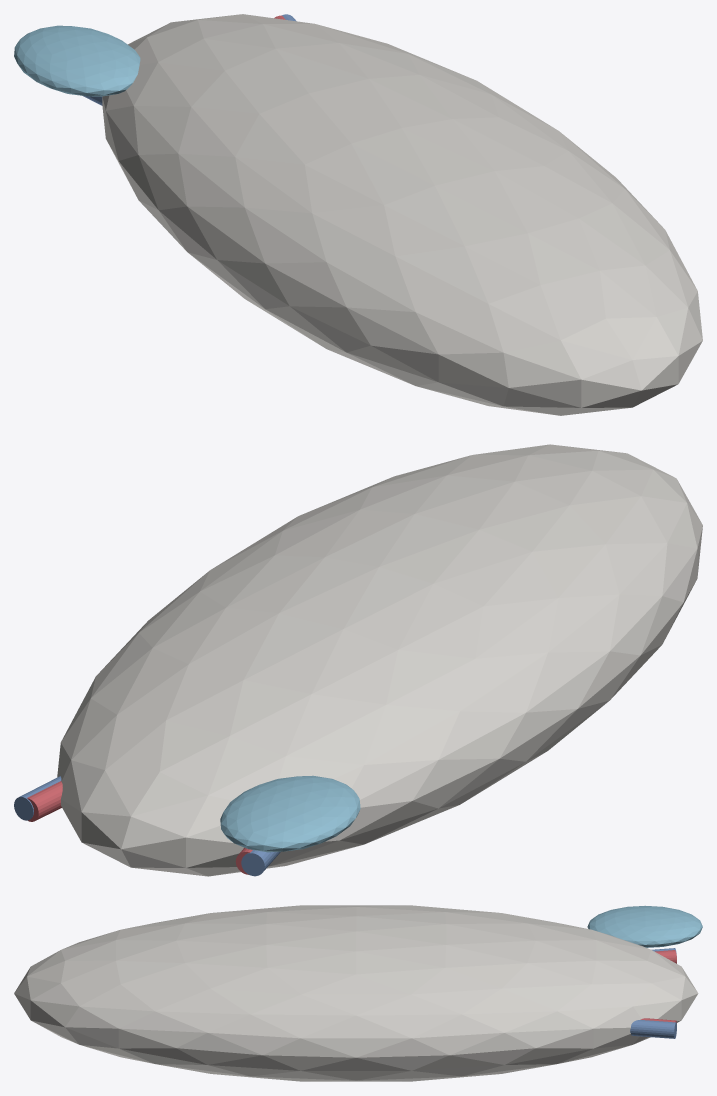
File: cardiovascular_educational.glb
3 renders of one model, top to bottom at view 1: azimuth 30°, elevation 25°; view 2: azimuth 150°, elevation 25°; view 3: azimuth 270°, elevation 25°, orthographic. The views are drawn at different scales.
Parts seen in each view (by area): view 1: Siluet Tubuh, Edema Tungkai; view 2: Siluet Tubuh, Edema Tungkai, Arteri Tungkai Kiri_2, Vena Tungkai Kanan_1; view 3: Siluet Tubuh, Edema Tungkai, Vena Tungkai Kiri_1.
Boxes of the visible parts, x1,y1,x2,y2 form: Siluet Tubuh: [102, 14, 702, 415]; Edema Tungkai: [14, 25, 140, 96]; Siluet Tubuh: [57, 444, 702, 876]; Edema Tungkai: [220, 775, 360, 852]; Arteri Tungkai Kiri_2: [27, 781, 62, 821]; Vena Tungkai Kanan_1: [241, 850, 280, 876]; Siluet Tubuh: [14, 905, 698, 1081]; Edema Tungkai: [587, 905, 702, 947]; Vena Tungkai Kiri_1: [630, 1020, 676, 1038].
Bounding box in the file's own units: 2 × 0.9 × 4.53.
